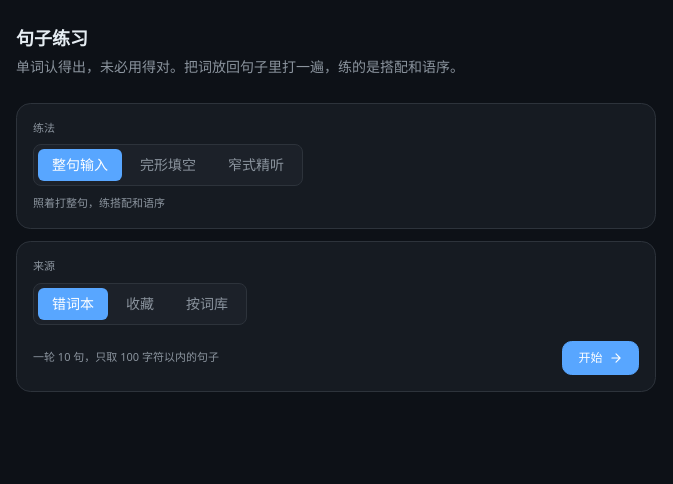
it: SentencesPage · 窄式精听 › 第一轮是盲听，不给任何文字
The width and height of the screenshot is (673, 484).
Click the button "按词库": click(207, 304) [172, 288, 242, 320]
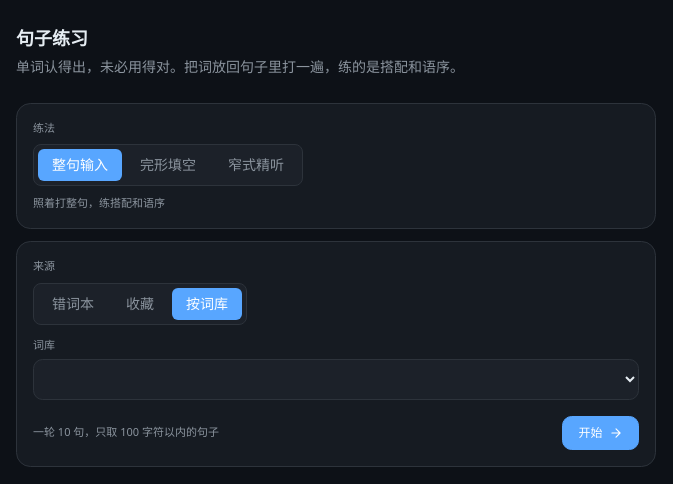
Click the button "窄式精听": click(256, 165) [214, 149, 298, 181]
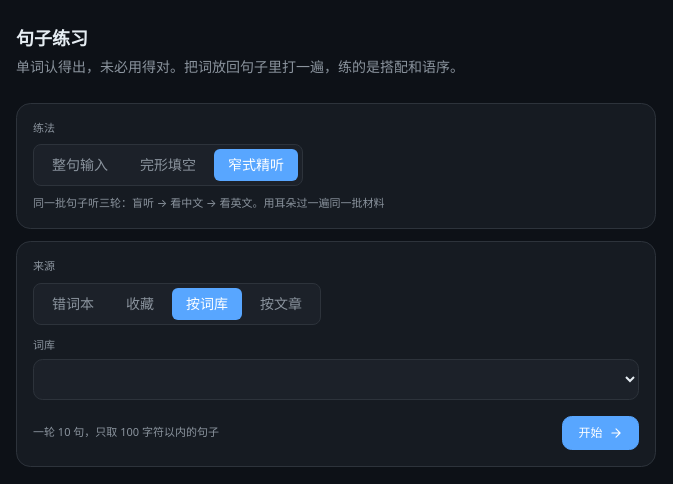
Click the button "开始": click(601, 433) [562, 416, 639, 450]
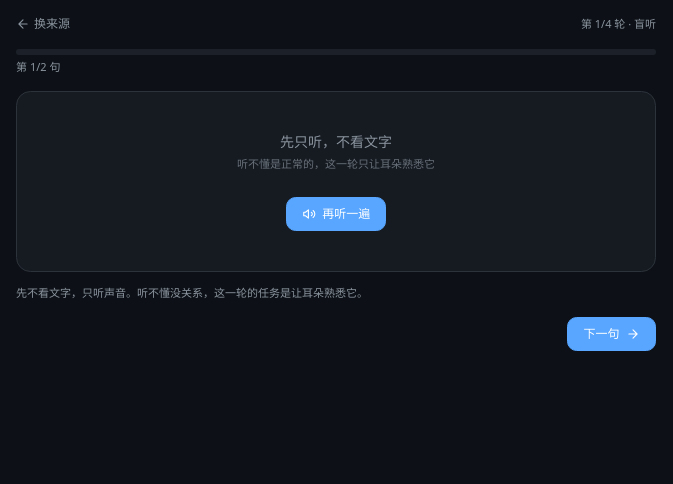
Expected: the text "第 1/4 轮 · 盲听" is shown, [581, 16, 656, 32]
Expected: the text "先只听，不看文字" is shown, [280, 132, 392, 151]
